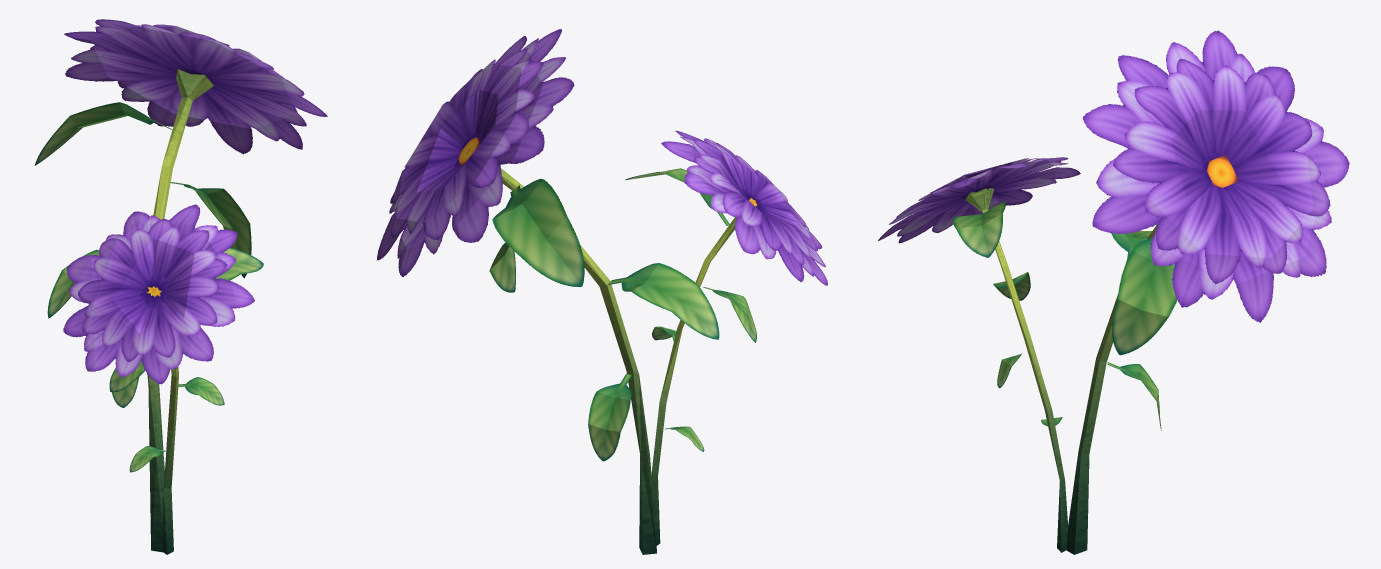
Rendered from VEG0310012.fbx.
3 renders of one model, left to right at view 1: azimuth 30°, elevation 25°; view 2: azimuth 150°, elevation 25°; view 3: azimuth 270°, elevation 25°, orthographic. The views are drawn at different scales.
Visible parts, largest first — view 1: smVEG0310012; view 2: smVEG0310012; view 3: smVEG0310012.
Boxes of the visible parts, x1,y1,x2,y2 form: smVEG0310012: (34,19,327,554); smVEG0310012: (376,29,827,554); smVEG0310012: (878,30,1349,554).
Size of the model in its own units: 23.54 by 34.12 by 28.77.
Materials: 1 (1 with a texture image).
